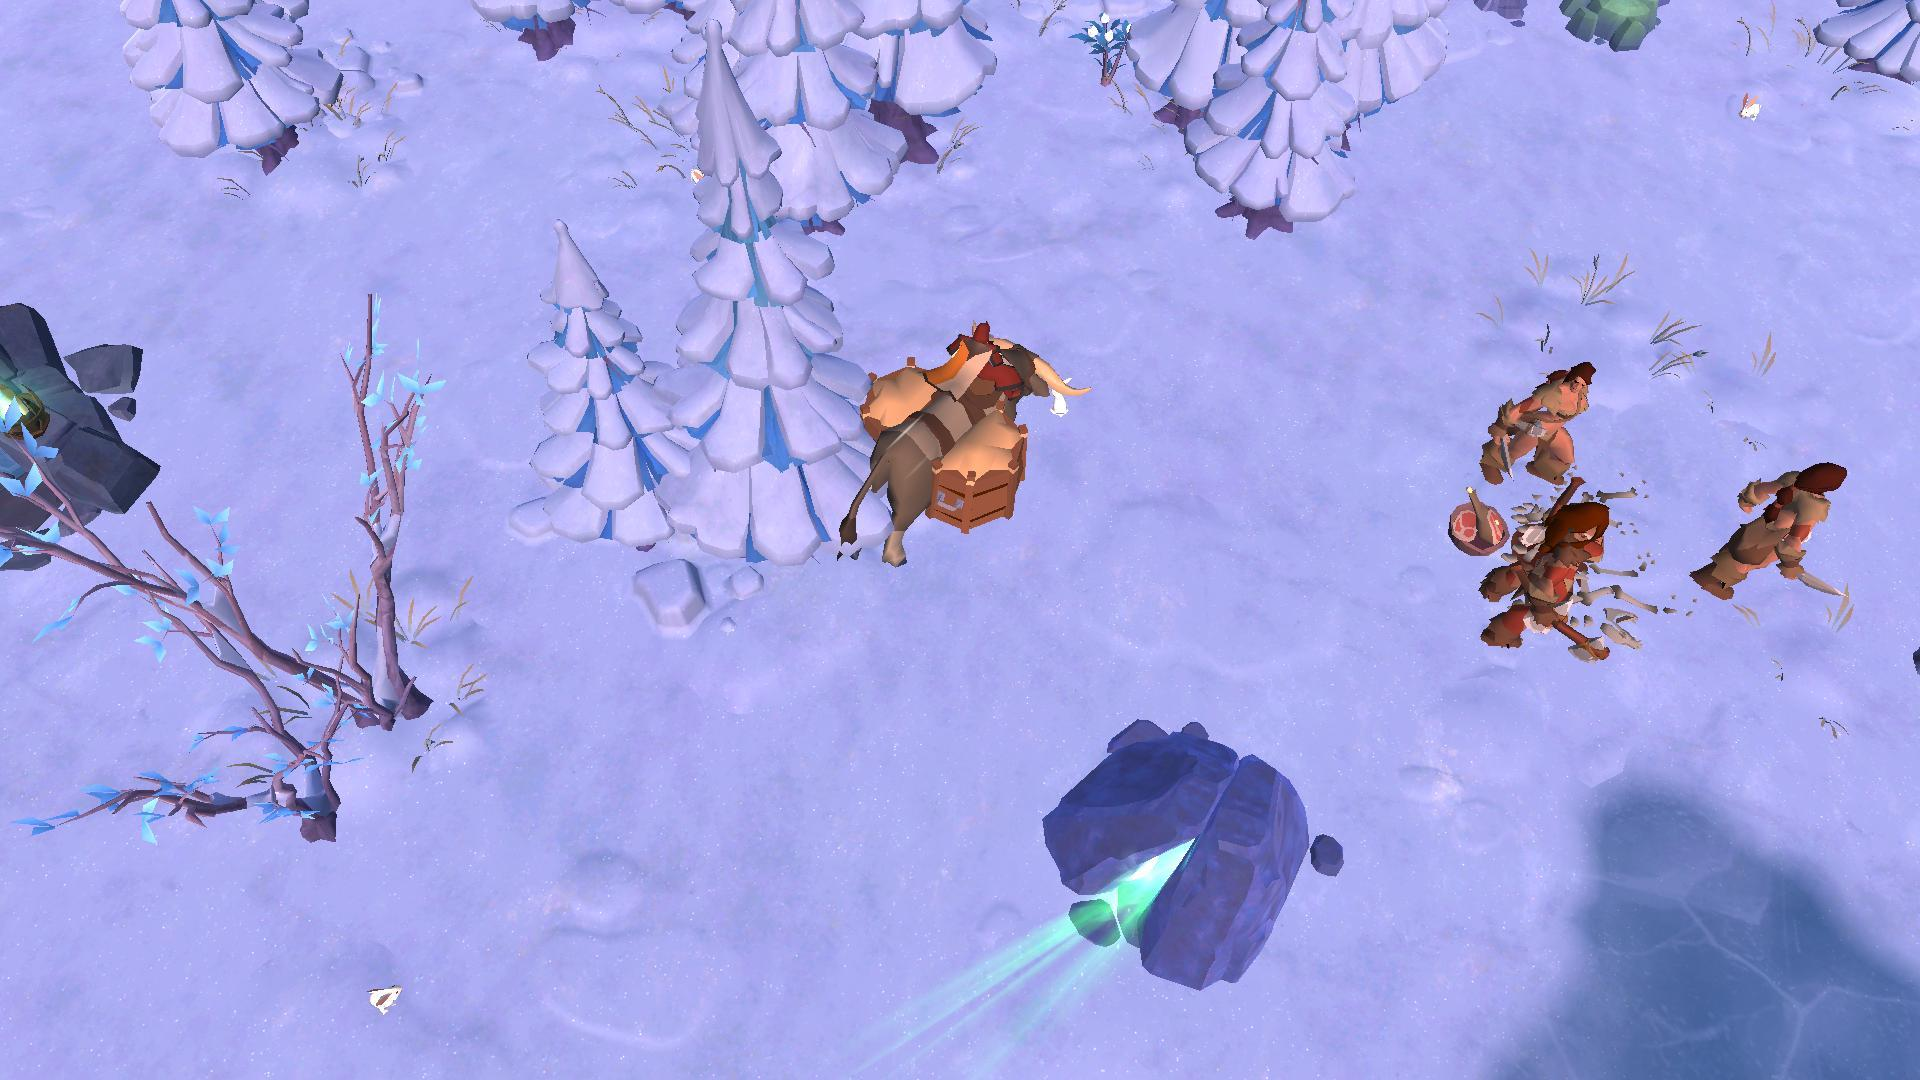enemy_factionKeeper: (1469, 487, 1614, 658), (1673, 462, 1853, 600), (1482, 349, 1594, 479)
fiber_t4: (1079, 11, 1134, 87)
rock_t3: (1556, 0, 1680, 61)
